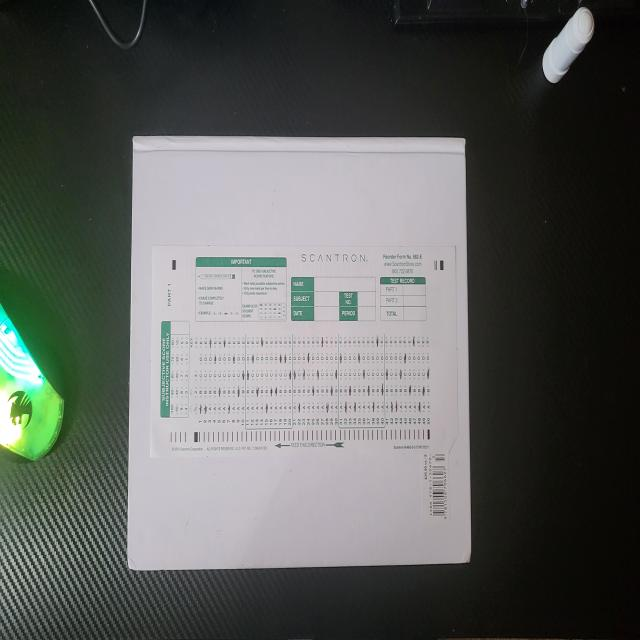scantron: (150, 244, 458, 458)
